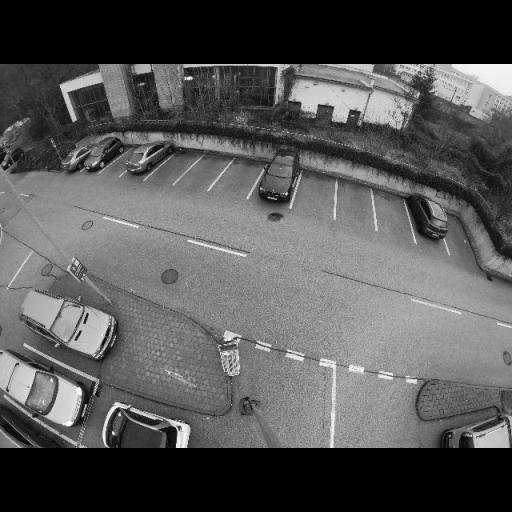busy: (0, 344, 91, 438), (16, 288, 120, 358), (97, 402, 194, 448), (434, 401, 512, 447), (254, 152, 301, 202), (408, 194, 454, 240), (124, 141, 172, 174), (82, 137, 121, 173), (60, 148, 90, 174), (3, 150, 21, 172)
free: (300, 188, 334, 210), (338, 198, 369, 218), (376, 211, 406, 231), (224, 171, 252, 189), (195, 164, 218, 178), (168, 162, 187, 174)
